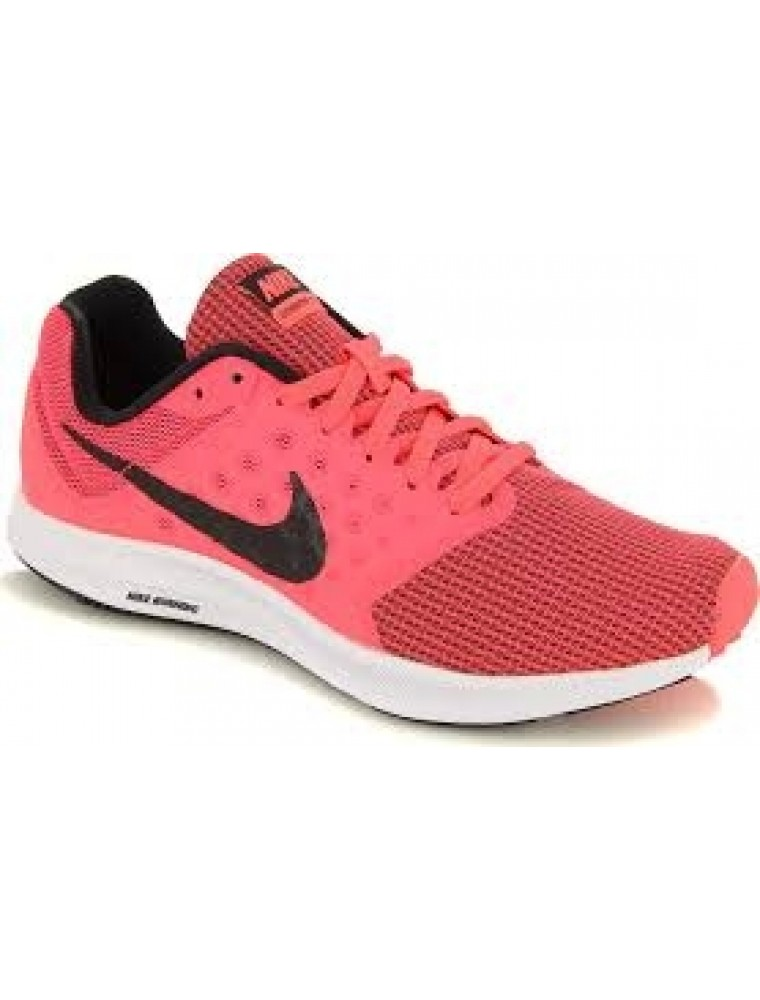nike: (62, 427, 330, 586)
